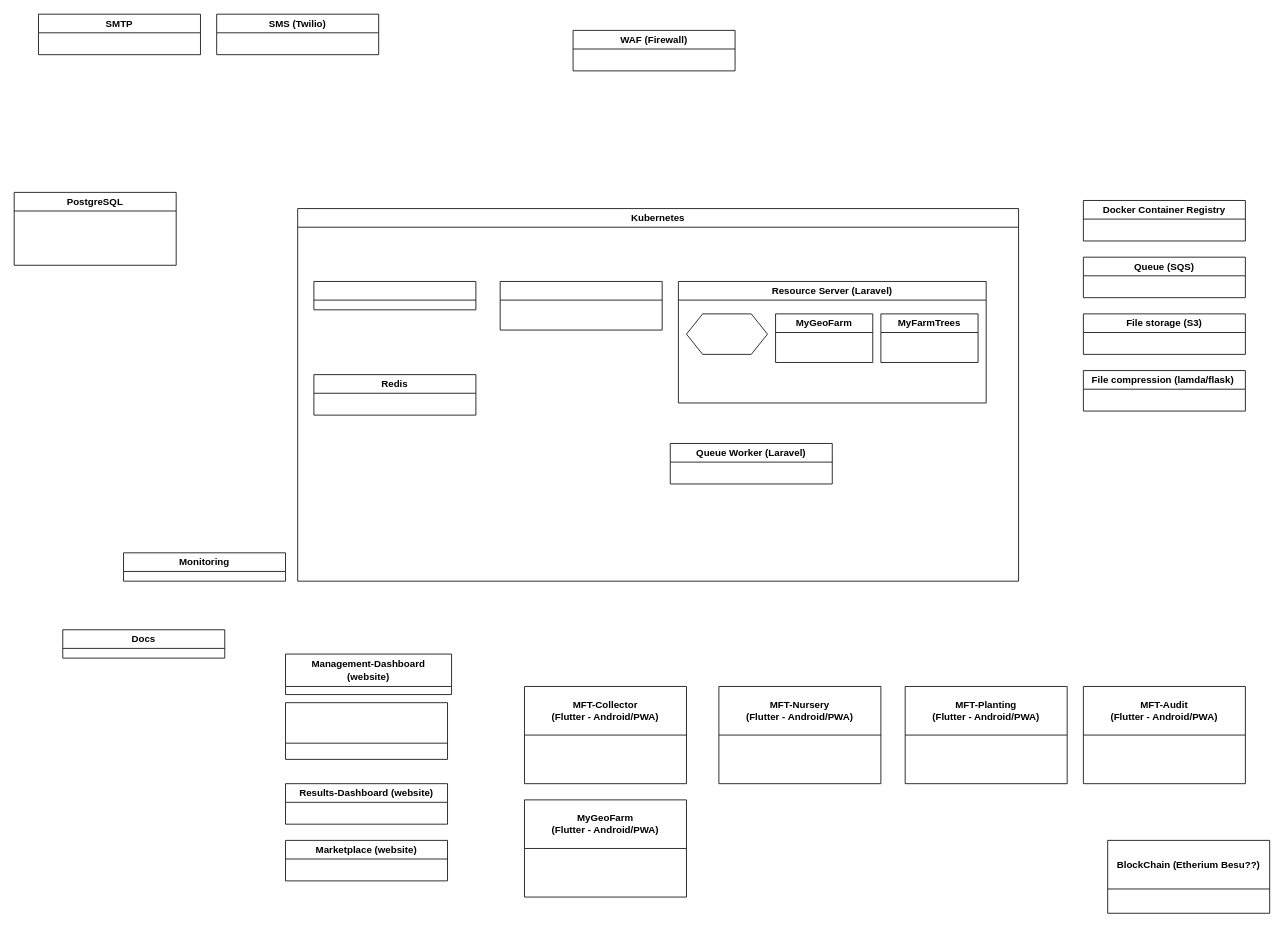
This 1284x927 diagram has some shape labels left out. The centre of each missing label's shape, as x and y in pixels:
"GeoFarmer Shared" belongs at point (726, 333).
"IDP(KeyCloak)" belongs at point (580, 305).
"RDS Proxy" belongs at point (394, 295).
"Species Wiki (website - MediaWiki?)" belongs at point (366, 730).
